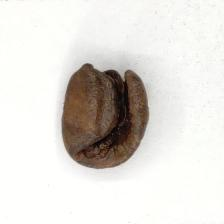NG: (75, 62, 141, 159)
